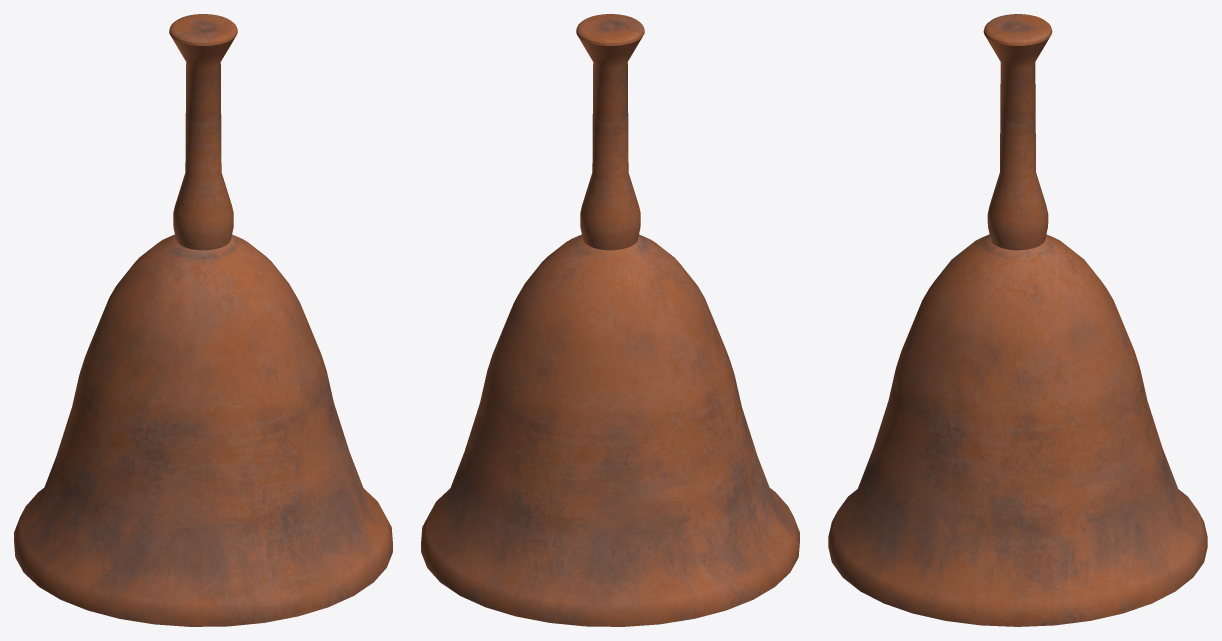
The model's file is Campana.fbx.
The picture shows the model from 3 angles, left to right: view 1: azimuth 30°, elevation 25°; view 2: azimuth 150°, elevation 25°; view 3: azimuth 270°, elevation 25°; orthographic projection.
Parts seen in each view (by area): view 1: Campana; view 2: Campana; view 3: Campana.
Boxes of the visible parts, bbox=[...] form: Campana: bbox=[14, 14, 392, 626]; Campana: bbox=[421, 14, 799, 626]; Campana: bbox=[828, 14, 1207, 626].
Size of the model in its own units: 61.26 by 92.59 by 61.26.
1 material, 1 textured.
